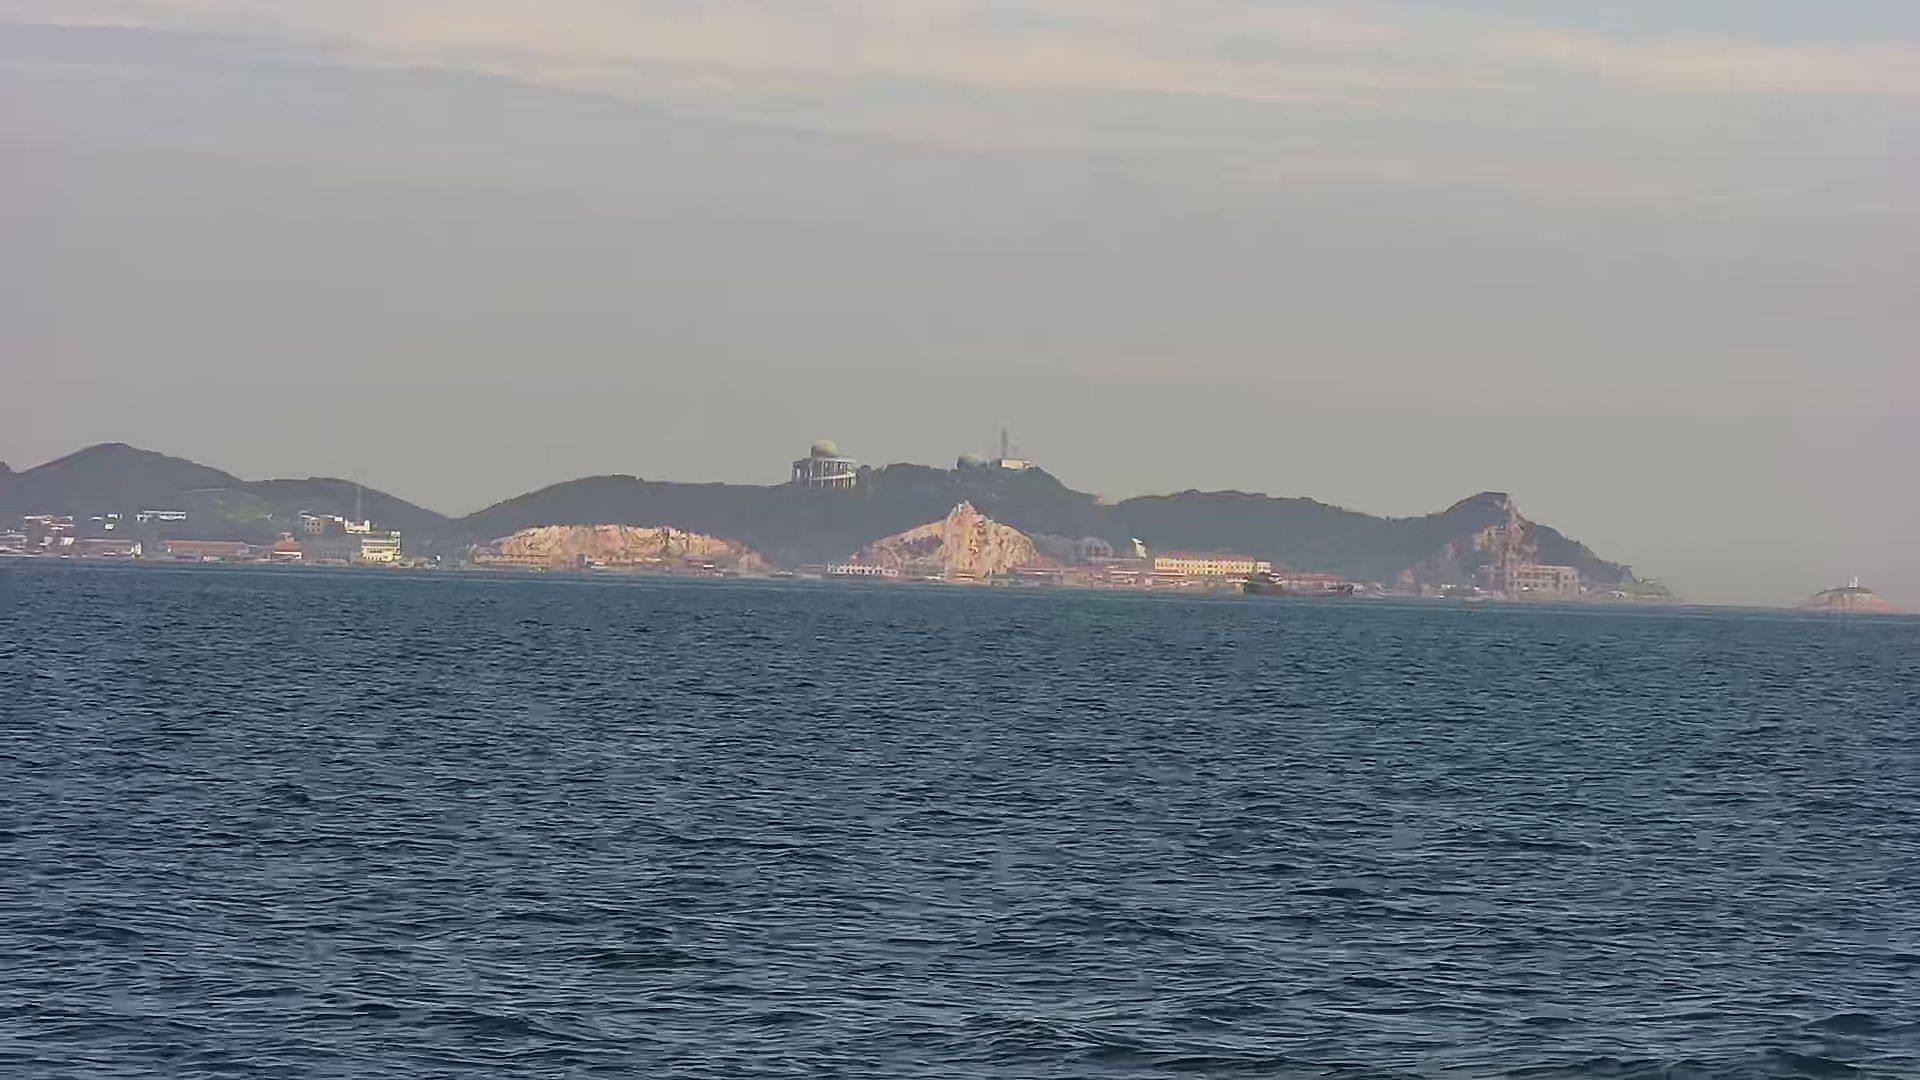rock: (4, 448, 1692, 603), (1792, 583, 1912, 616)
